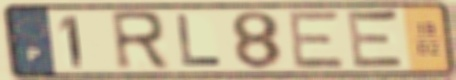1: (56, 13, 85, 69)
8: (229, 9, 288, 72)
E: (345, 7, 408, 72), (287, 9, 347, 71)
L: (174, 12, 225, 69)
R: (107, 9, 174, 73)
